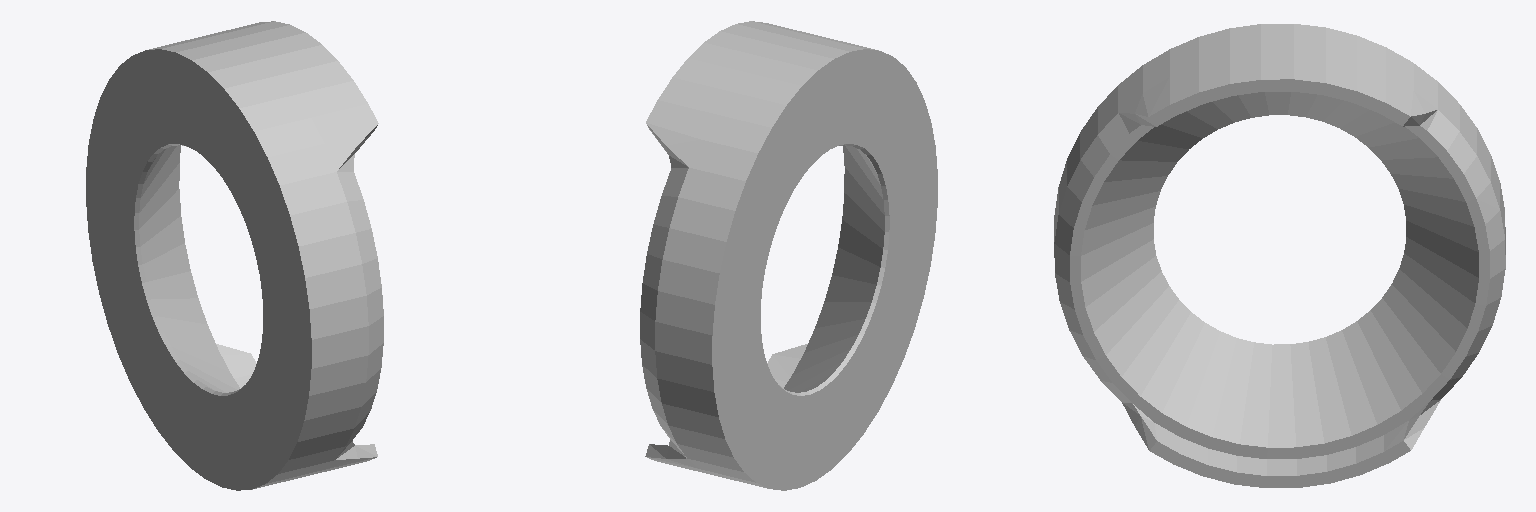
File: RSP1D_Rahmen.obj
3 views of the same model, side by side, from view 1: azimuth 30°, elevation 25°; view 2: azimuth 150°, elevation 25°; view 3: azimuth 270°, elevation 25° (orthographic).
Parts seen in each view (by area): view 1: polySurface1011 pCylinder133; view 2: polySurface1011 pCylinder133; view 3: polySurface1011 pCylinder133.
Part boxes in pixels (x1,y1,x2,y2): polySurface1011 pCylinder133: (86, 21, 383, 490); polySurface1011 pCylinder133: (640, 21, 937, 490); polySurface1011 pCylinder133: (1054, 24, 1505, 487).
Bounding box in the file's own units: 16.51 × 56.45 × 56.45.